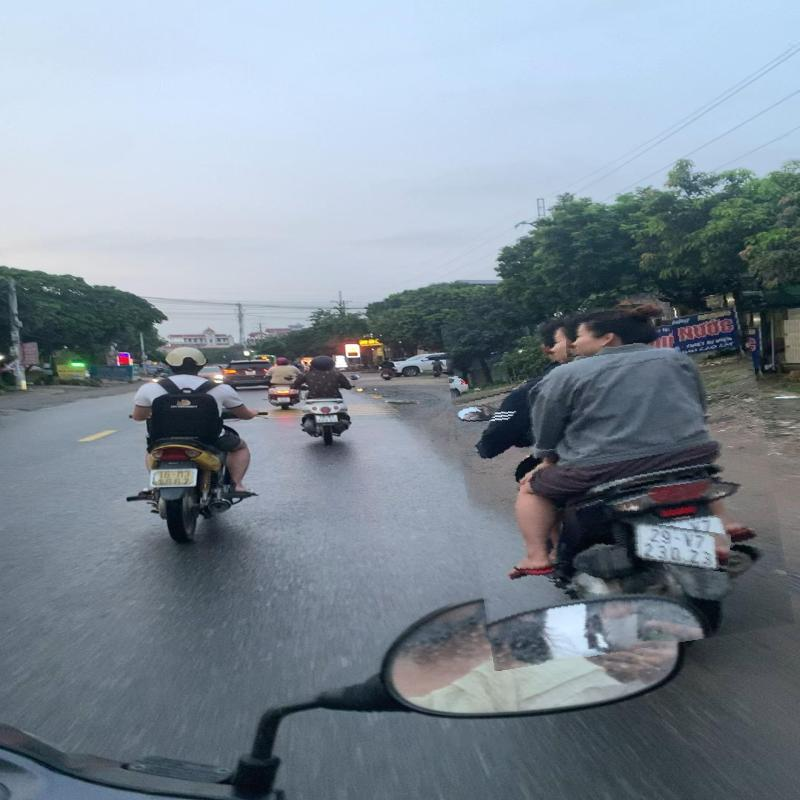licenseplate: (627, 524, 730, 569)
motorcyclist: (454, 288, 782, 661)
nohelmet: (564, 304, 672, 356)
